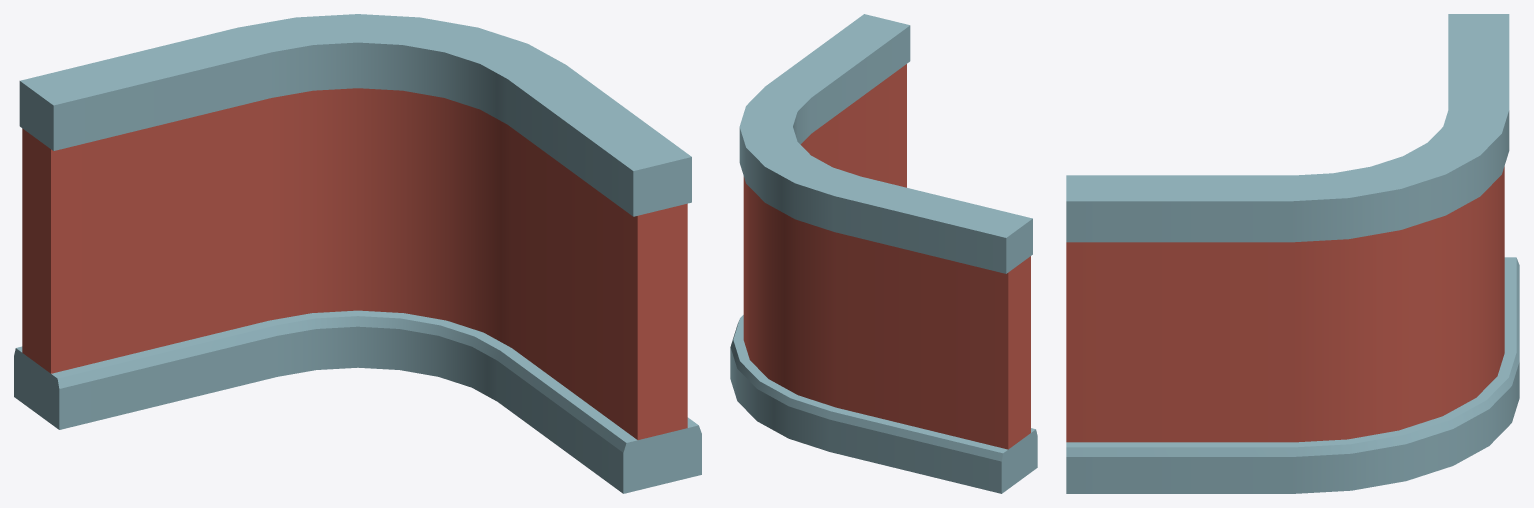
Rendered from brickWallCurveSmall.fbx.
3 views of the same model, side by side, from view 1: azimuth 30°, elevation 25°; view 2: azimuth 150°, elevation 25°; view 3: azimuth 270°, elevation 25° (orthographic). The views are drawn at different scales.
Parts seen in each view (by area): view 1: brickWallCurveSmall; view 2: brickWallCurveSmall; view 3: brickWallCurveSmall.
Boxes of the visible parts, <box> form: brickWallCurveSmall: <box>14,14,701,493</box>; brickWallCurveSmall: <box>730,14,1037,493</box>; brickWallCurveSmall: <box>1066,14,1519,493</box>.
Bounding box in the file's own units: 10 × 7.02 × 10.
